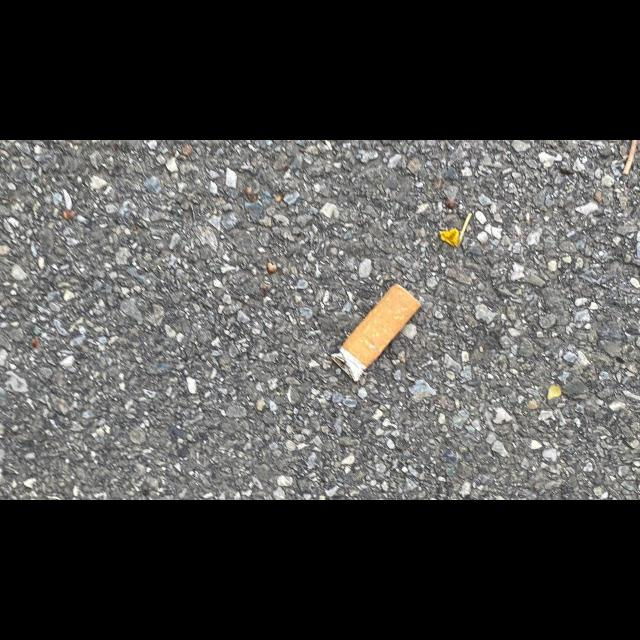cigarette: (329, 281, 423, 384)
